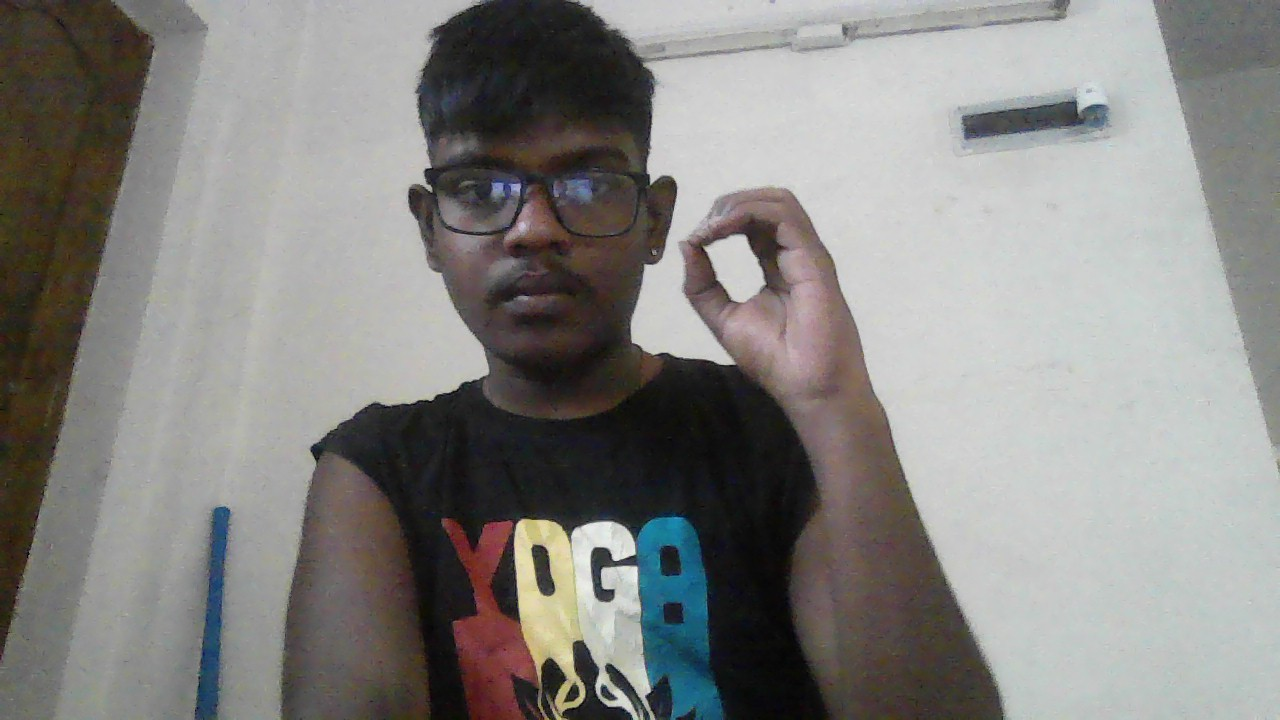O: (679, 188, 856, 396)
